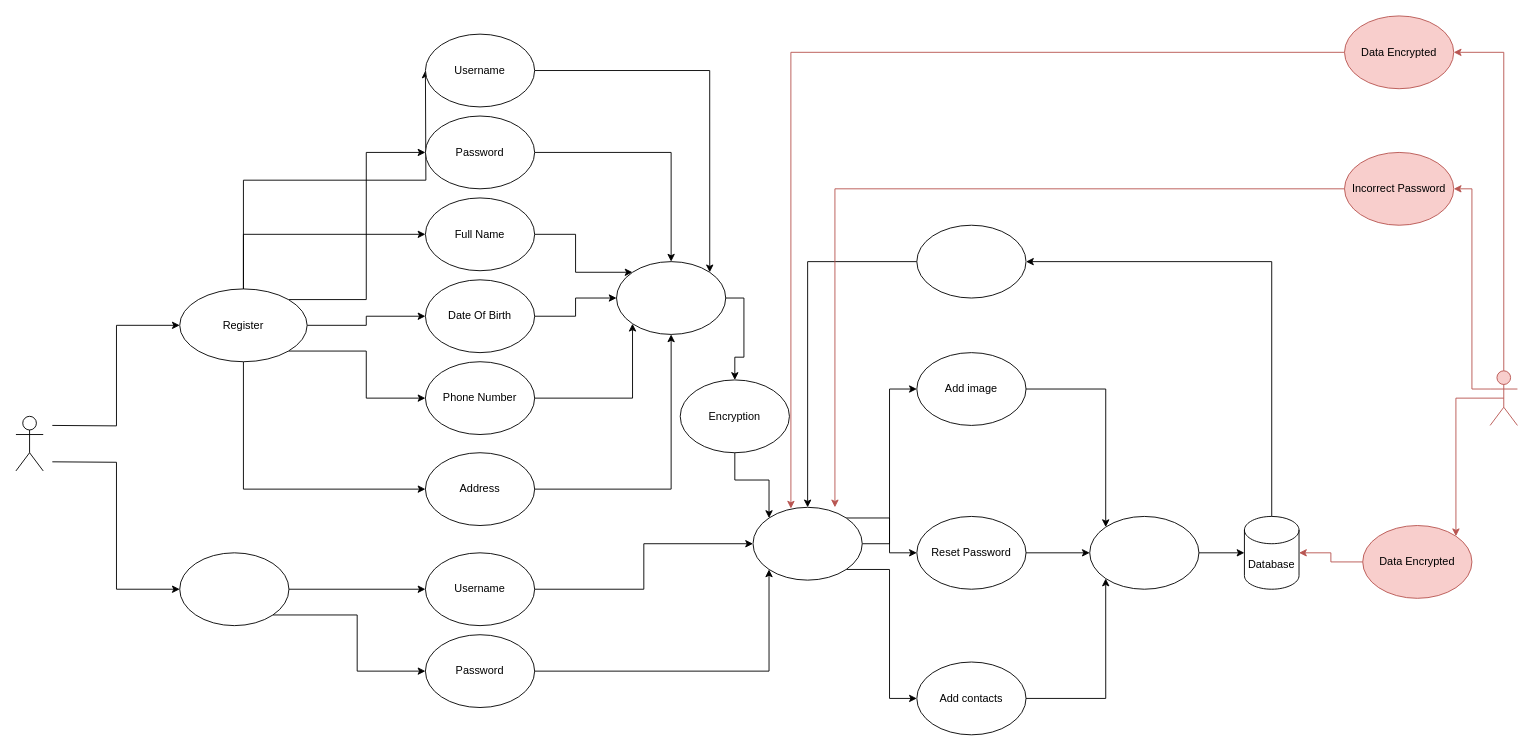
Image size: 1540x751. Some labels were removed from this diagram. The shapes that lost their labels are listed below. From the top down, each one's centre as x and y in pixels, then its label:
[971,261]: Decryption Process
[671,297]: Account Creation
[1503,397]: Attacker
[29,443]: User
[807,543]: Account Access
[1144,552]: Encryption Process
[234,589]: Login
